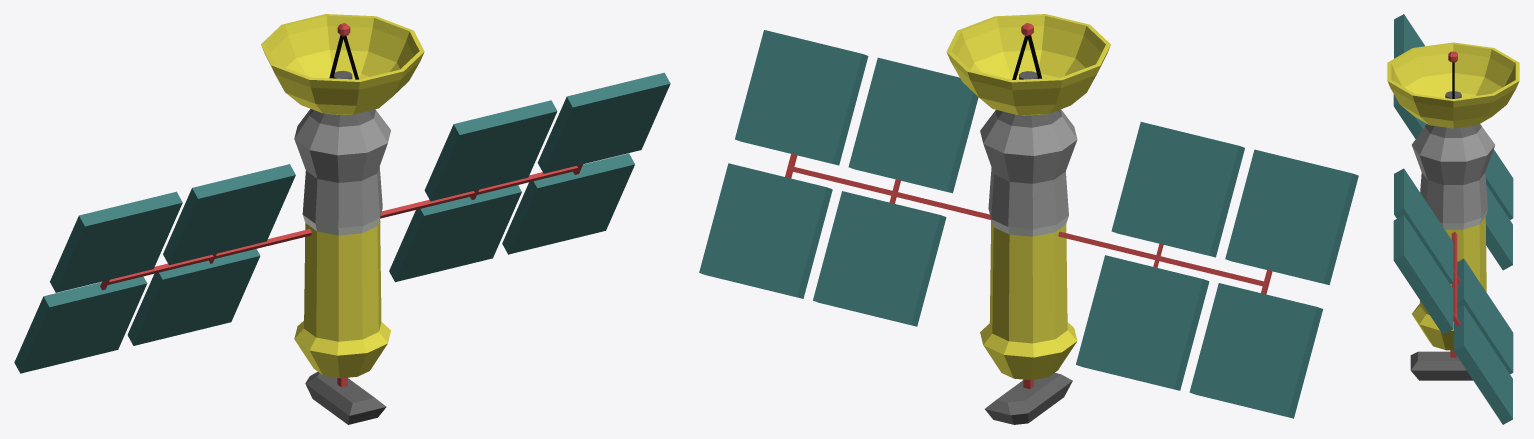
The model's file is satellite_model_greenish.fbx.
3 renders of one model, left to right at view 1: azimuth 30°, elevation 25°; view 2: azimuth 150°, elevation 25°; view 3: azimuth 270°, elevation 25°, orthographic. The views are drawn at different scales.
Parts seen in each view (by area): view 1: satellite; view 2: satellite; view 3: satellite.
Part boxes in pixels (x1=…): satellite: x1=14, y1=14, x2=670, y2=424; satellite: x1=699, y1=14, x2=1358, y2=424; satellite: x1=1387, y1=14, x2=1519, y2=424.
Bounding box in the file's own units: 13.64 × 8.5 × 3.16.
Materials: 1 (1 with a texture image).
